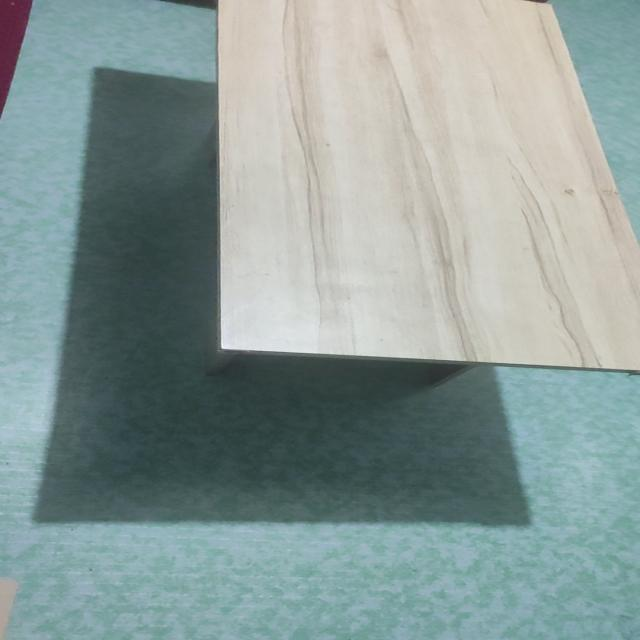table: (210, 0, 640, 395)
